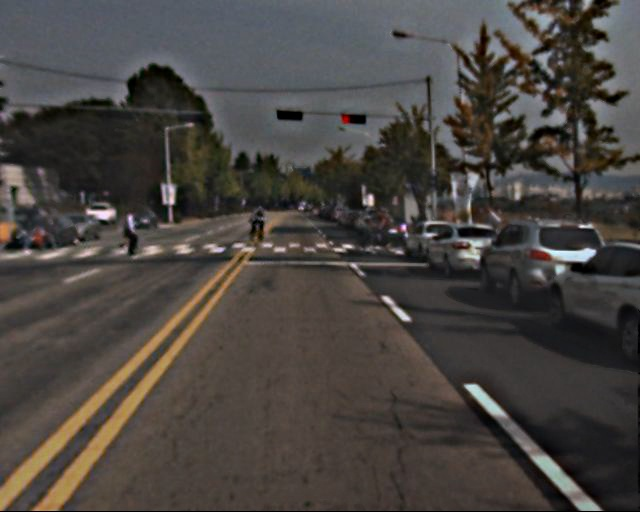person: (19, 212, 60, 255), (120, 207, 141, 259), (374, 207, 393, 253), (248, 204, 265, 246)
